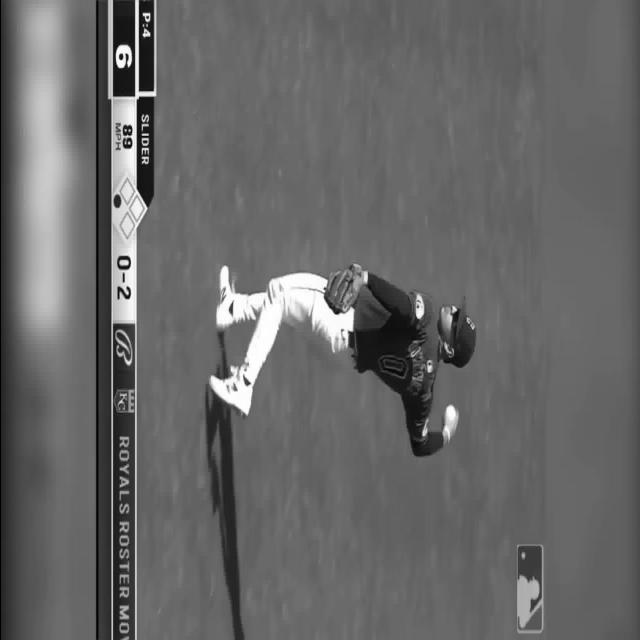baseball: (442, 404, 458, 436)
baseball_glove: (323, 263, 363, 315)
shoe: (208, 363, 252, 417), (214, 264, 234, 331)
